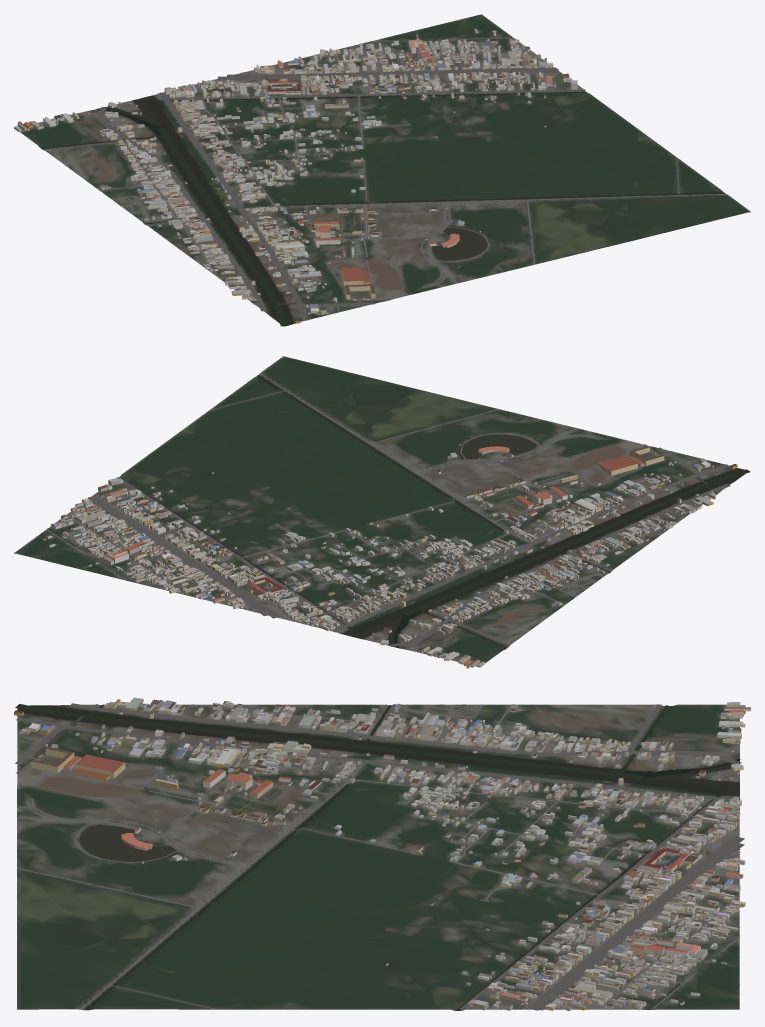
The picture shows the model from 3 angles, top to bottom: view 1: azimuth 30°, elevation 25°; view 2: azimuth 150°, elevation 25°; view 3: azimuth 270°, elevation 25°; orthographic projection. The views are drawn at different scales.
Visible parts, largest first — view 1: ground, buildings, roads, water; view 2: ground, buildings, roads, water; view 3: ground, buildings, roads, water.
Part boxes in pixels (<box>): ground: <box>19,14,750,326</box>; buildings: <box>14,28,577,323</box>; roads: <box>44,38,726,320</box>; water: <box>41,38,724,326</box>; ground: <box>14,356,745,666</box>; buildings: <box>42,444,737,668</box>; roads: <box>46,373,730,652</box>; water: <box>47,375,750,648</box>; ground: <box>17,704,739,1010</box>; buildings: <box>14,697,750,1010</box>; roads: <box>15,703,744,1010</box>; water: <box>15,704,740,1010</box>.
Bounding box in the file's own units: 1429 × 21.34 × 1428.
